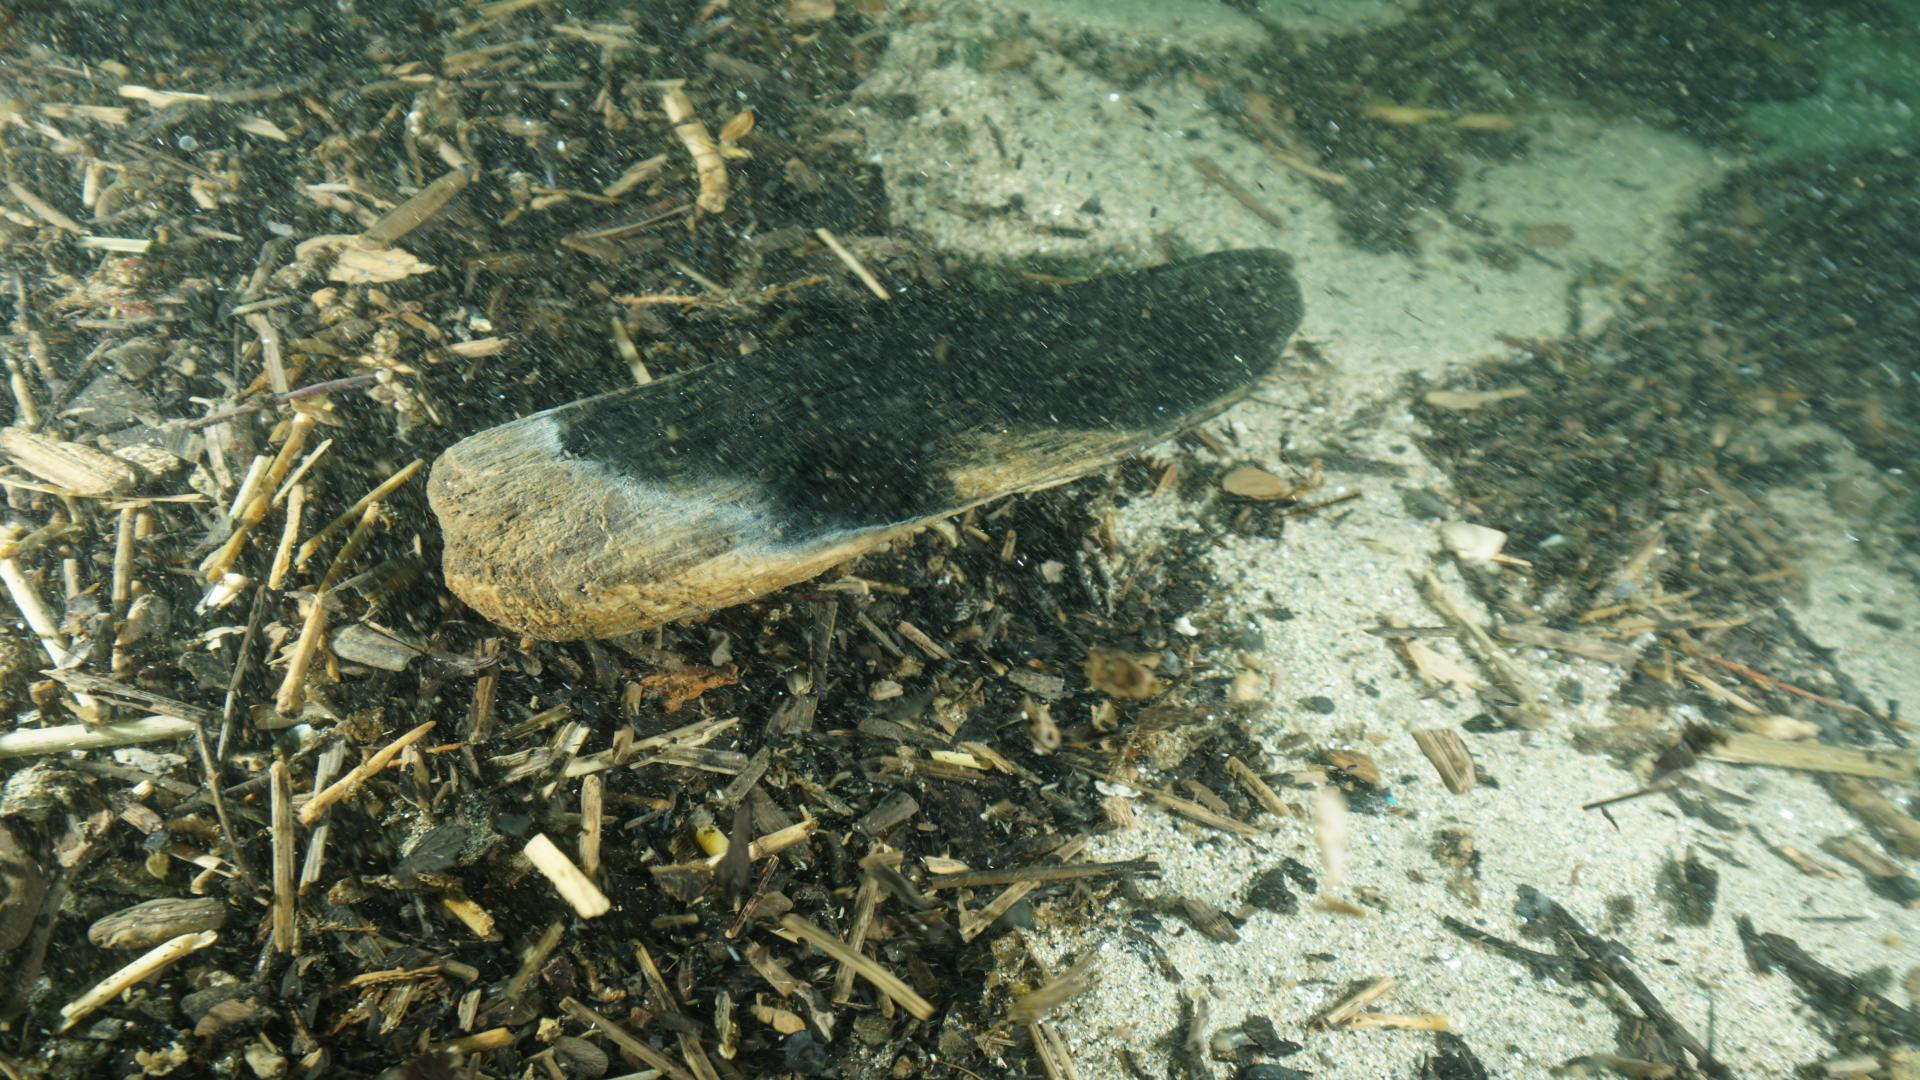wood: (423, 241, 1307, 647)
